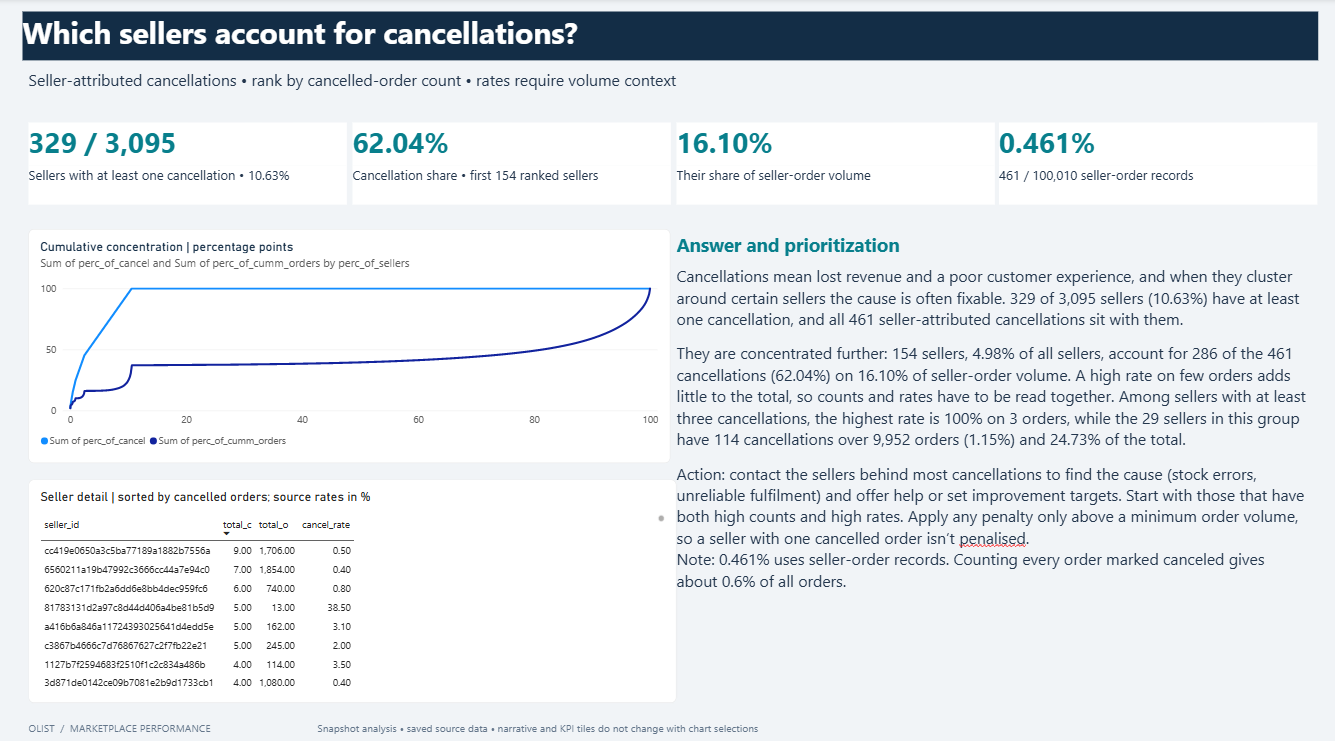

Layout of this report page (visuals, bound fields, positions):
{"tool":"powerbi","page":{"name":"04 | Cancellations","canvas":[1920,1080],"ordinal":3},"visuals":[{"type":"textbox","box":[32,20,1856,70],"z":0},{"type":"textbox","box":[40,100,1840,62],"z":1000},{"type":"textbox","box":[40,1035,1840,30],"z":2000},{"type":"textbox","box":[40,178,456,62],"z":3000},{"type":"textbox","box":[40,240,456,55],"z":4000},{"type":"textbox","box":[504,178,456,62],"z":5000},{"type":"textbox","box":[504,240,456,55],"z":6000},{"type":"textbox","box":[968,178,456,62],"z":7000},{"type":"textbox","box":[968,240,456,55],"z":8000},{"type":"textbox","box":[1432,178,456,62],"z":9000},{"type":"textbox","box":[1432,240,456,55],"z":10000},{"type":"lineChart","title":"Cumulative concentration | percentage points","fields":{"Category":["public q4_cumm_seller_and_canceln.perc_of_sellers"],"Y":["Sum(public q4_cumm_seller_and_canceln.perc_of_cancel)","Sum(public q4_cumm_seller_and_canceln.perc_of_cumm_orders)"]},"box":[40,330,1180,335],"z":11000},{"type":"tableEx","title":"Seller detail | sorted by cancelled orders; source rates in %","fields":{"Values":["public q4_seller_cr.seller_id","public q4_seller_cr.total_c","public q4_seller_cr.total_o","public q4_seller_cr.cancel_rate"]},"box":[40,690,1180,320],"z":12000},{"type":"textbox","box":[1260,335,610,48],"z":13000},{"type":"textbox","box":[1259.8,381.7,610.8,684.8],"z":14000}]}

Visuals, with their boxes in screenshot pixels (x1, y1, x2, y2), scaled from the page's 1920x1080 canvas onto the 1335x741 screenshot:
textbox: (22, 14, 1313, 62)
textbox: (28, 69, 1307, 111)
textbox: (28, 710, 1307, 731)
textbox: (28, 122, 345, 165)
textbox: (28, 165, 345, 202)
textbox: (350, 122, 668, 165)
textbox: (350, 165, 668, 202)
textbox: (673, 122, 990, 165)
textbox: (673, 165, 990, 202)
textbox: (996, 122, 1313, 165)
textbox: (996, 165, 1313, 202)
"Cumulative concentration | percentage points" lineChart: (28, 226, 848, 456)
"Seller detail | sorted by cancelled orders; source rates in %" tableEx: (28, 473, 848, 693)
textbox: (876, 230, 1300, 263)
textbox: (876, 262, 1301, 732)
